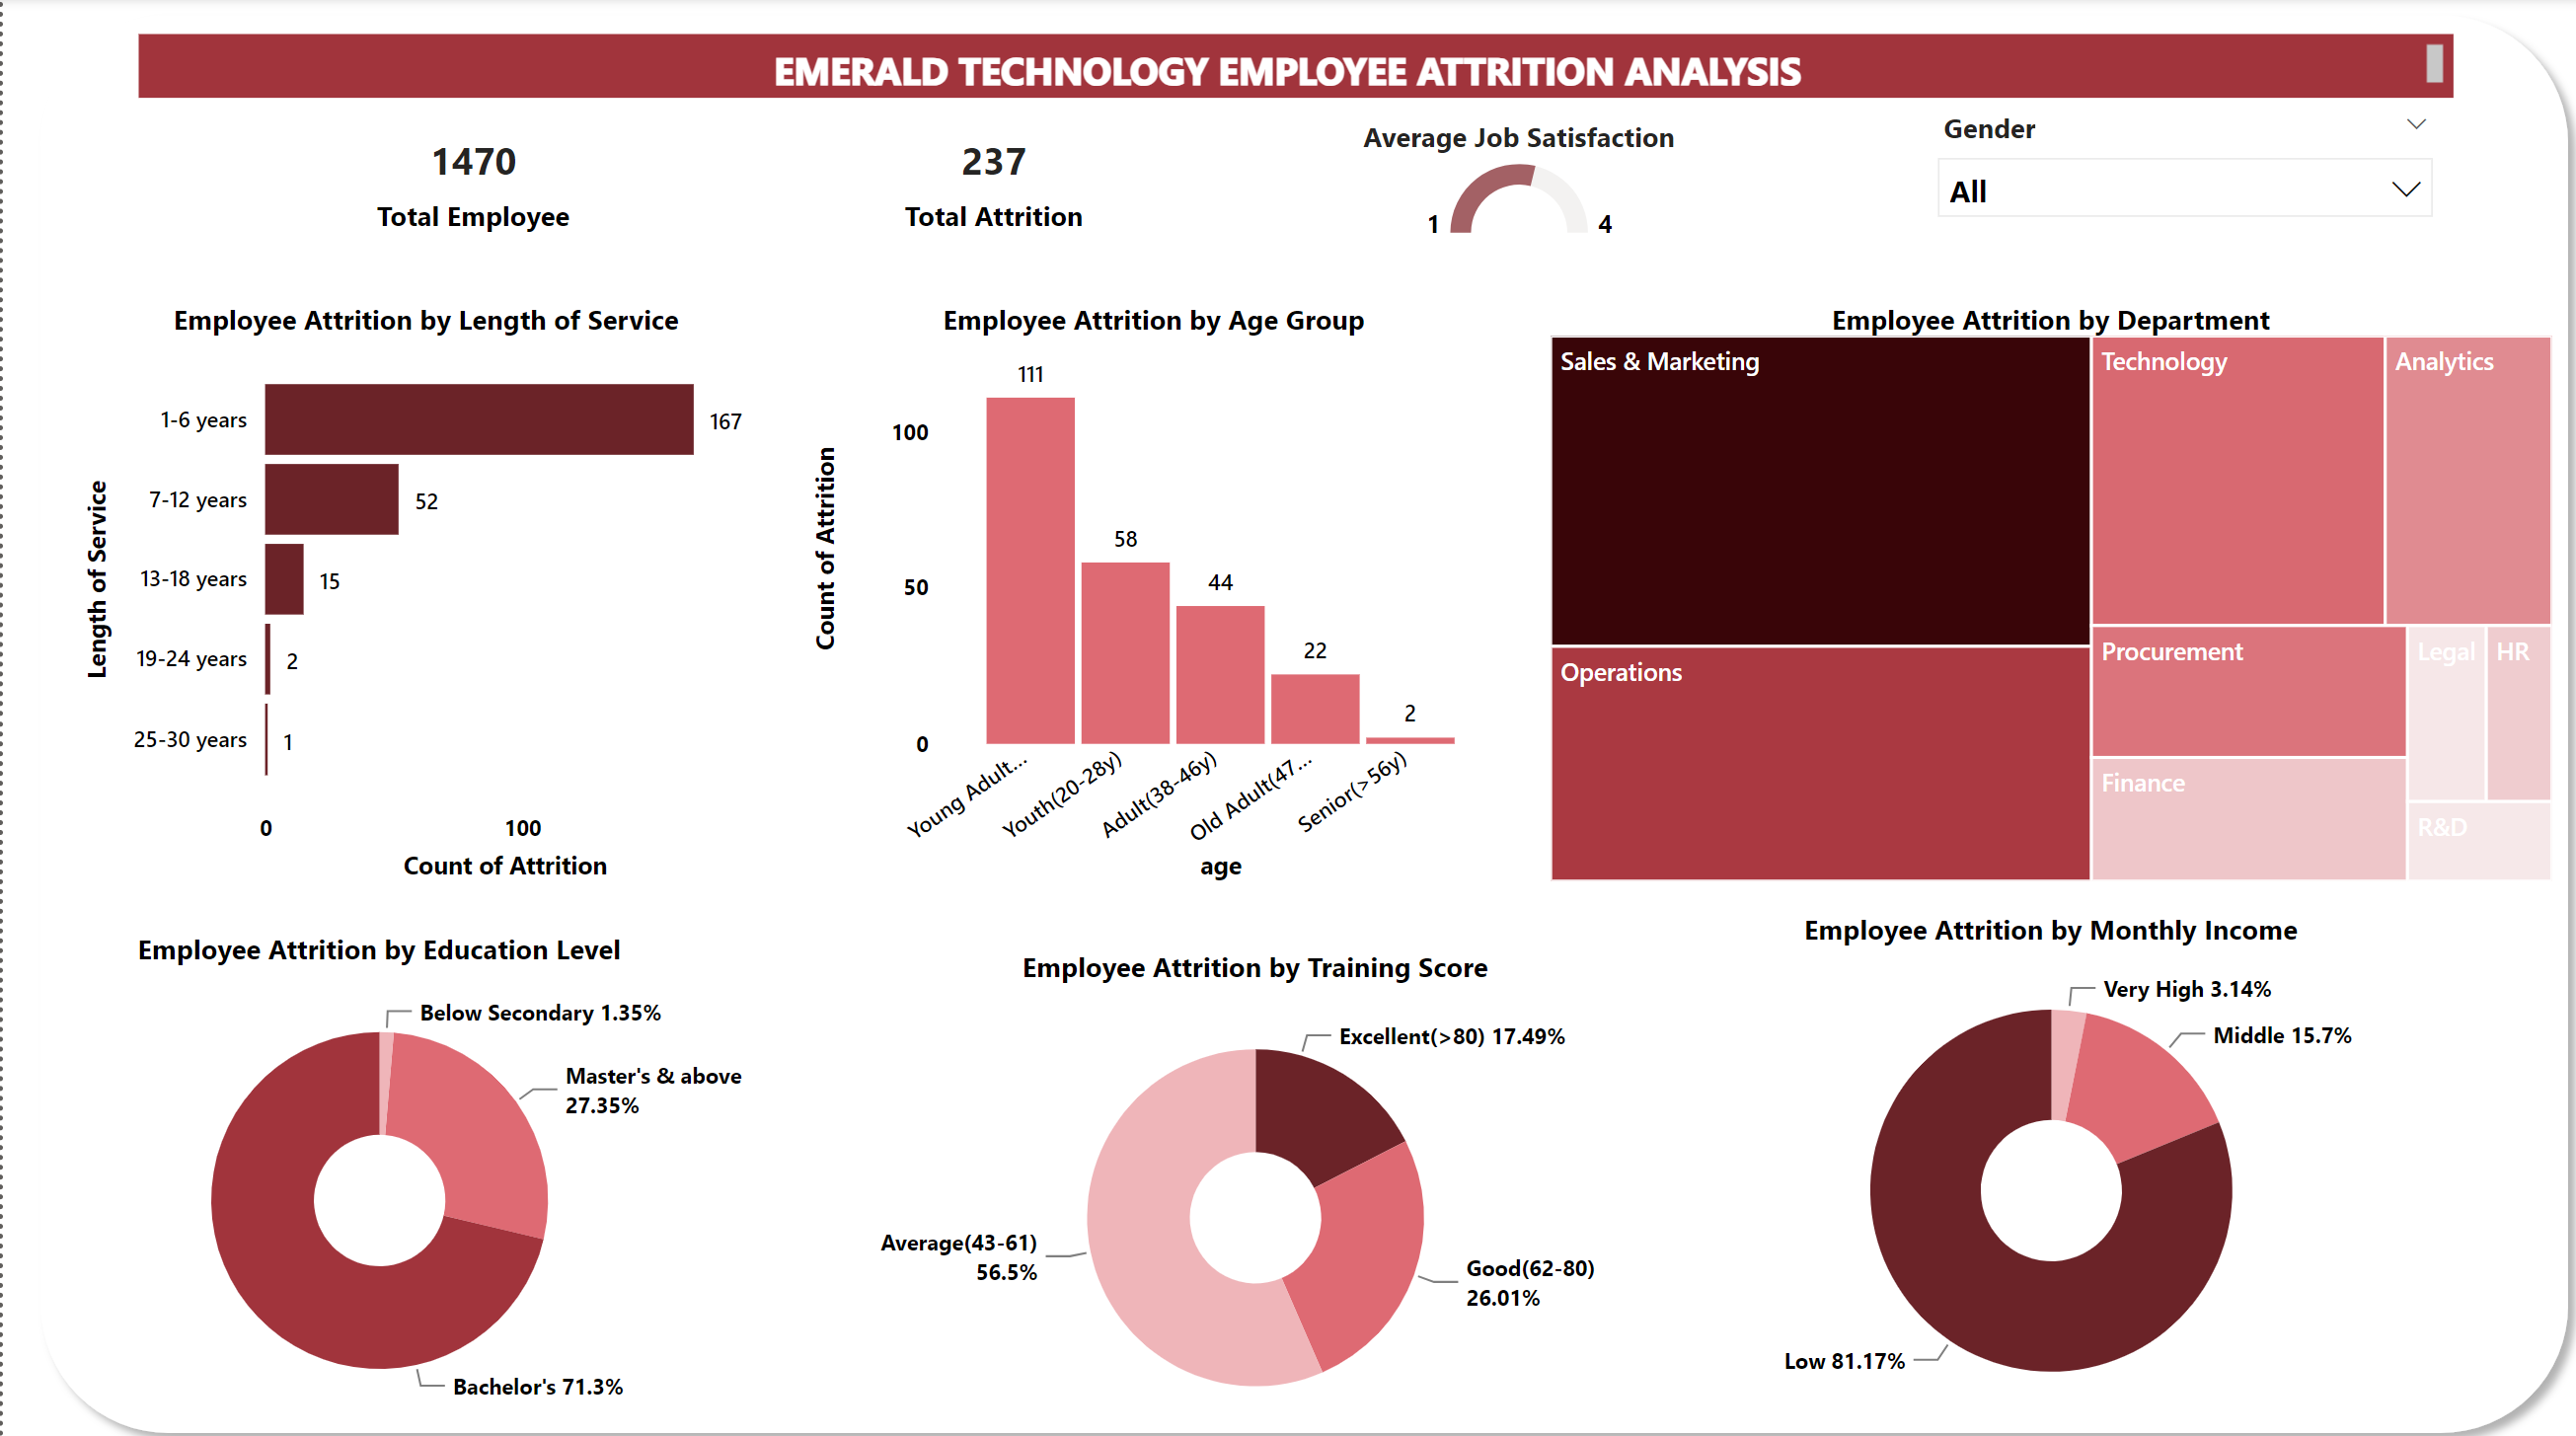

This screenshot's page, from the dashboard's own definition file:
{"tool":"powerbi","page":{"name":"Page 1","canvas":[1280,720],"ordinal":0},"visuals":[{"type":"shape","box":[9.8,0,1270.1,720],"z":0},{"type":"treemap","title":"Employee Attrition by Department","fields":{"Group":["emeraldemployeeviews.department"],"Values":["DAX Measures.Total Attrition"]},"box":[761.6,150.4,506.1,292.2],"z":1000},{"type":"clusteredBarChart","title":"Employee Attrition by Length of Service","fields":{"Y":["DAX Measures.Total Attrition"],"Category":["emeraldemployeeviews.length_of_service","emeraldemployeeviews.gender"]},"box":[36.7,150.4,345.9,292.2],"z":2000},{"type":"clusteredColumnChart","title":"Employee Attrition by Age Group","fields":{"Category":["emeraldemployeeviews.age","emeraldemployeeviews.gender"],"Y":["DAX Measures.Total Attrition"]},"box":[397.3,150.4,345.9,292.2],"z":3000},{"type":"donutChart","title":"Employee Attrition by Education Level","fields":{"Y":["DAX Measures.Total Attrition"],"Category":["emeraldemployeeviews.education"]},"box":[0,462.1,372.8,249.4],"z":4000},{"type":"donutChart","title":"Employee Attrition by Training Score","fields":{"Y":["DAX Measures.Total Attrition"],"Category":["emeraldemployeeviews.avg_training_score"]},"box":[434,470.6,372.8,249.4],"z":5000},{"type":"donutChart","title":"Employee Attrition by Monthly Income","fields":{"Y":["DAX Measures.Total Attrition"],"Category":["emeraldemployeeviews.MonthlyIncome"]},"box":[761.6,452.3,506.1,259.2],"z":6000},{"type":"textbox","box":[67.2,18.3,1146.6,31.8],"z":7000},{"type":"gauge","title":"Average Job Satisfaction","fields":{"Y":["DAX Measures.Average Job Satisfaction (Filtered)"],"MinValue":["Min(emeraldemployeeviews.JobSatisfaction)"],"MaxValue":["Max(emeraldemployeeviews.JobSatisfaction)1"]},"box":[570.4,60.3,360.6,61.7],"z":8000},{"type":"card","fields":{"Values":["DAX Measures.Total Employee"]},"box":[83.1,59.9,299.5,62.3],"z":9000},{"type":"card","fields":{"Values":["DAX Measures.Total Attrition"]},"box":[341.1,59.9,299.5,62.3],"z":10000},{"type":"slicer","fields":{"Values":["emeraldemployeeviews.gender"]},"box":[948.6,50.1,265.3,72.1],"z":11000}]}

Visuals, with their boxes in screenshot pixels (x1, y1, x2, y2), scaled from the page's 1280x720 canvas onto the 2576x1436 screenshot:
shape: [x1=20, y1=0, x2=2575, y2=1435]
"Employee Attrition by Department" treemap: [x1=1533, y1=300, x2=2551, y2=882]
"Employee Attrition by Length of Service" clusteredBarChart: [x1=74, y1=300, x2=770, y2=882]
"Employee Attrition by Age Group" clusteredColumnChart: [x1=799, y1=300, x2=1495, y2=882]
"Employee Attrition by Education Level" donutChart: [x1=0, y1=922, x2=750, y2=1419]
"Employee Attrition by Training Score" donutChart: [x1=873, y1=939, x2=1624, y2=1435]
"Employee Attrition by Monthly Income" donutChart: [x1=1533, y1=902, x2=2551, y2=1419]
textbox: [x1=135, y1=37, x2=2443, y2=100]
"Average Job Satisfaction" gauge: [x1=1148, y1=120, x2=1873, y2=244]
card - DAX Measures.Total Employee: [x1=167, y1=119, x2=770, y2=244]
card - DAX Measures.Total Attrition: [x1=687, y1=119, x2=1289, y2=244]
slicer - emeraldemployeeviews.gender: [x1=1909, y1=100, x2=2443, y2=244]
